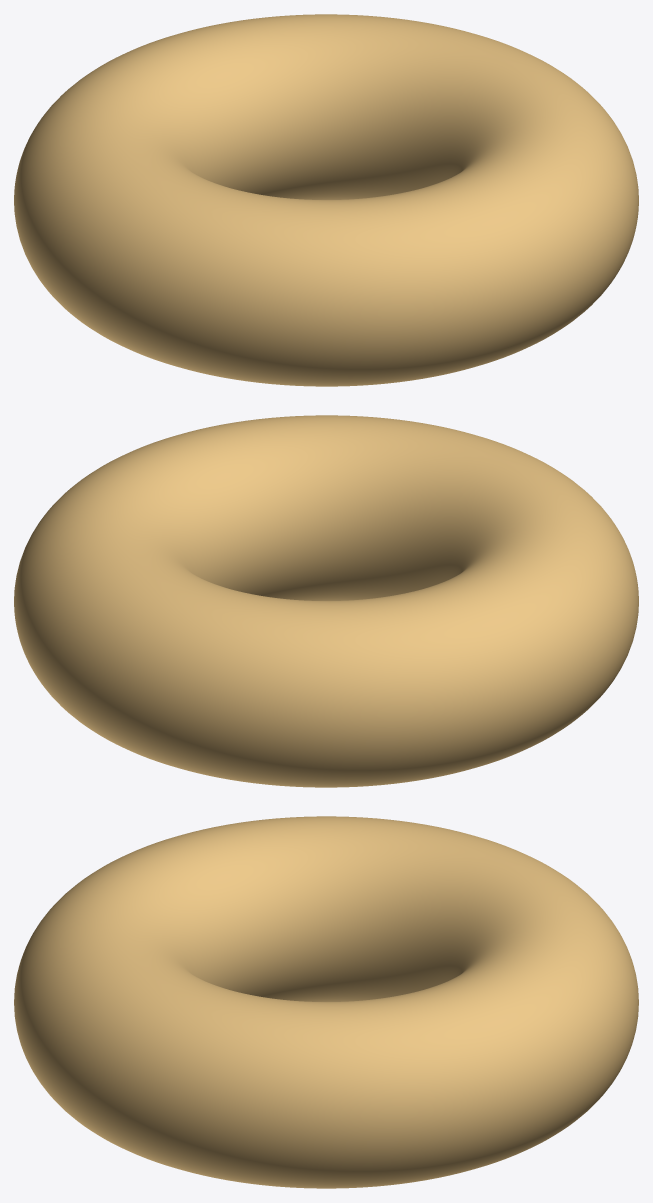
The model's file is donut.fbx.
3 renders of one model, top to bottom at view 1: azimuth 30°, elevation 25°; view 2: azimuth 150°, elevation 25°; view 3: azimuth 270°, elevation 25°, orthographic.
Visible parts, largest first — view 1: Torus.001; view 2: Torus.001; view 3: Torus.001.
Boxes of the visible parts, x1,y1,x2,y2 form: Torus.001: [14, 14, 638, 386]; Torus.001: [14, 415, 638, 787]; Torus.001: [14, 816, 638, 1188].
Size of the model in its own units: 229 by 68.42 by 229.
